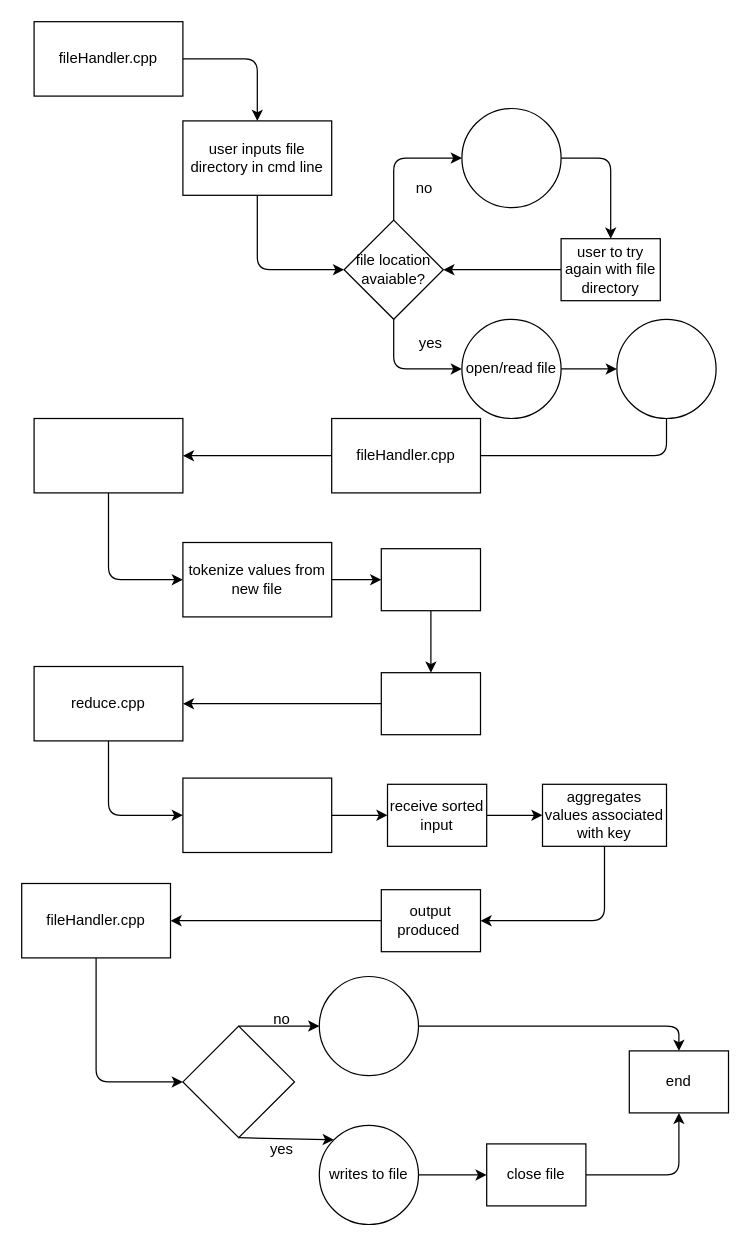
Image size: 750x1246. Some labels were removed from this diagram. Each missing label, with the box of its shape:
error message: (318, 975, 418, 1076)
error try again: (461, 107, 561, 208)
inititaites map operation: (380, 547, 480, 611)
map.cpp: (33, 417, 183, 493)
mapreduce completed?: (182, 1025, 294, 1138)
new file created: (616, 318, 716, 418)
reduce operation initiated: (182, 777, 332, 852)
shuffle/sort algo: (380, 671, 480, 735)
